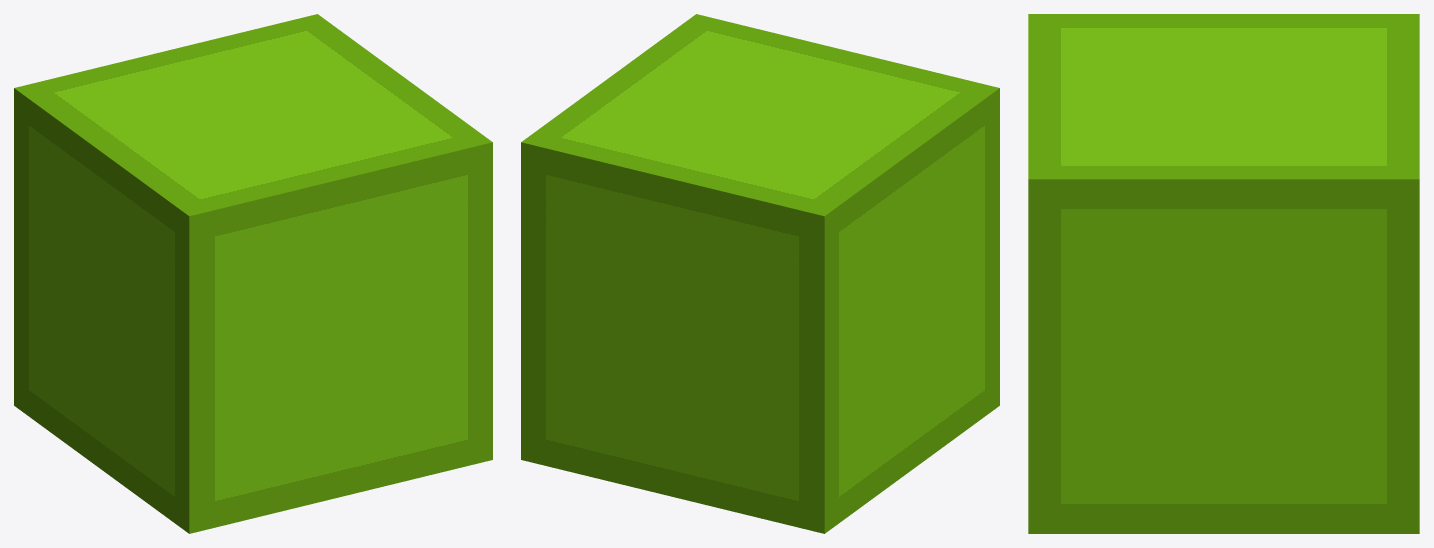
Rendered from block_grass.fbx.
3 views of the same model, side by side, from view 1: azimuth 30°, elevation 25°; view 2: azimuth 150°, elevation 25°; view 3: azimuth 270°, elevation 25° (orthographic). The views are drawn at different scales.
Parts seen in each view (by area): view 1: block_grass_bottom, block_grass_top; view 2: block_grass_bottom, block_grass_top; view 3: block_grass_bottom, block_grass_top.
Boxes of the visible parts, left/top/right/bottom form: block_grass_bottom: left=14, top=141, right=492, bottom=533; block_grass_top: left=14, top=14, right=492, bottom=269; block_grass_bottom: left=521, top=141, right=999, bottom=533; block_grass_top: left=521, top=14, right=999, bottom=269; block_grass_bottom: left=1028, top=238, right=1419, bottom=533; block_grass_top: left=1028, top=14, right=1419, bottom=238.
Bounding box in the file's own units: 12 × 12 × 12.
